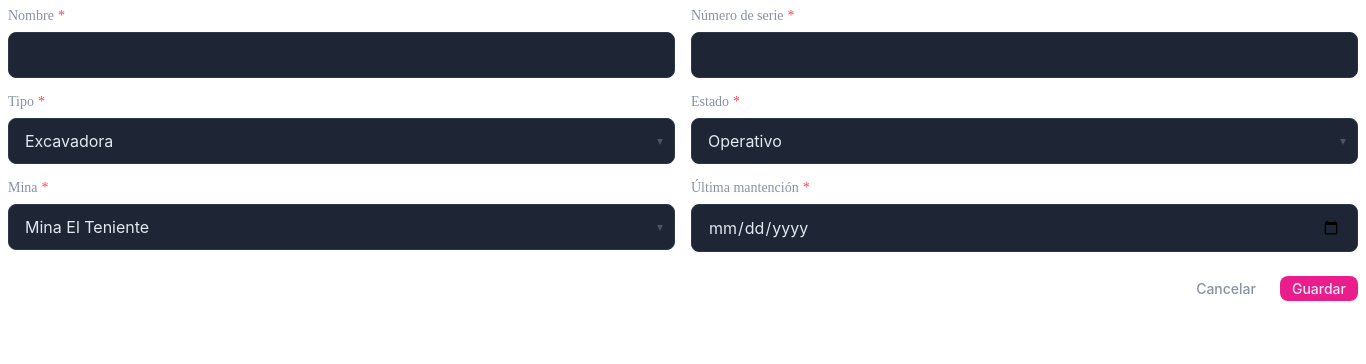
Scenario: EquipmentForm › muestra error cuando el número de serie está vacío
Clear the field labelled "Número de serie*" at point(1024, 55), box [691,32,1358,78]
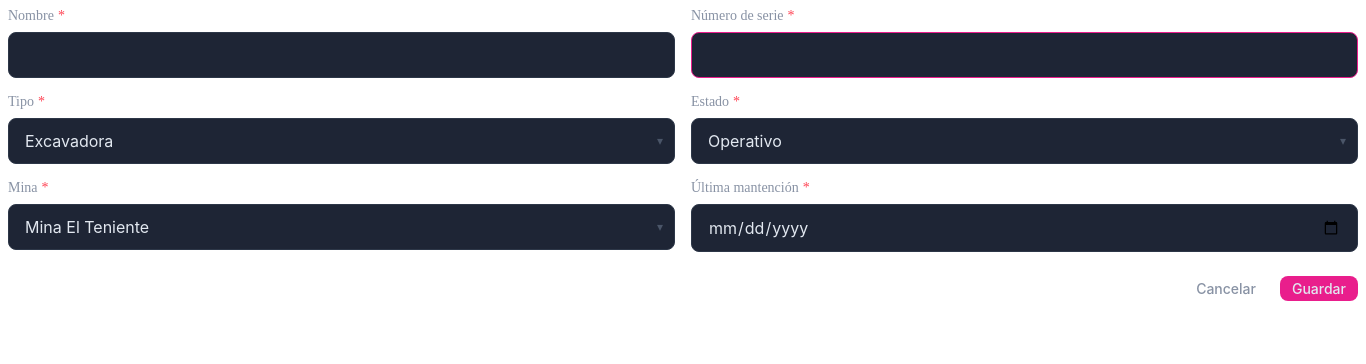
Click the button "Guardar" at point(1319, 288), box [1280,276,1358,301]
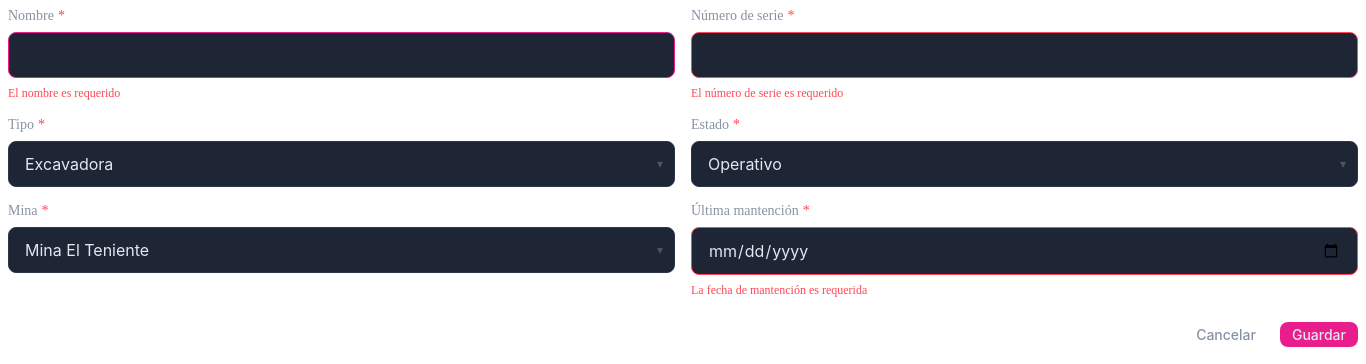
expect the text "El número de serie es requerido" is shown: met, box [691,86,843,100]
